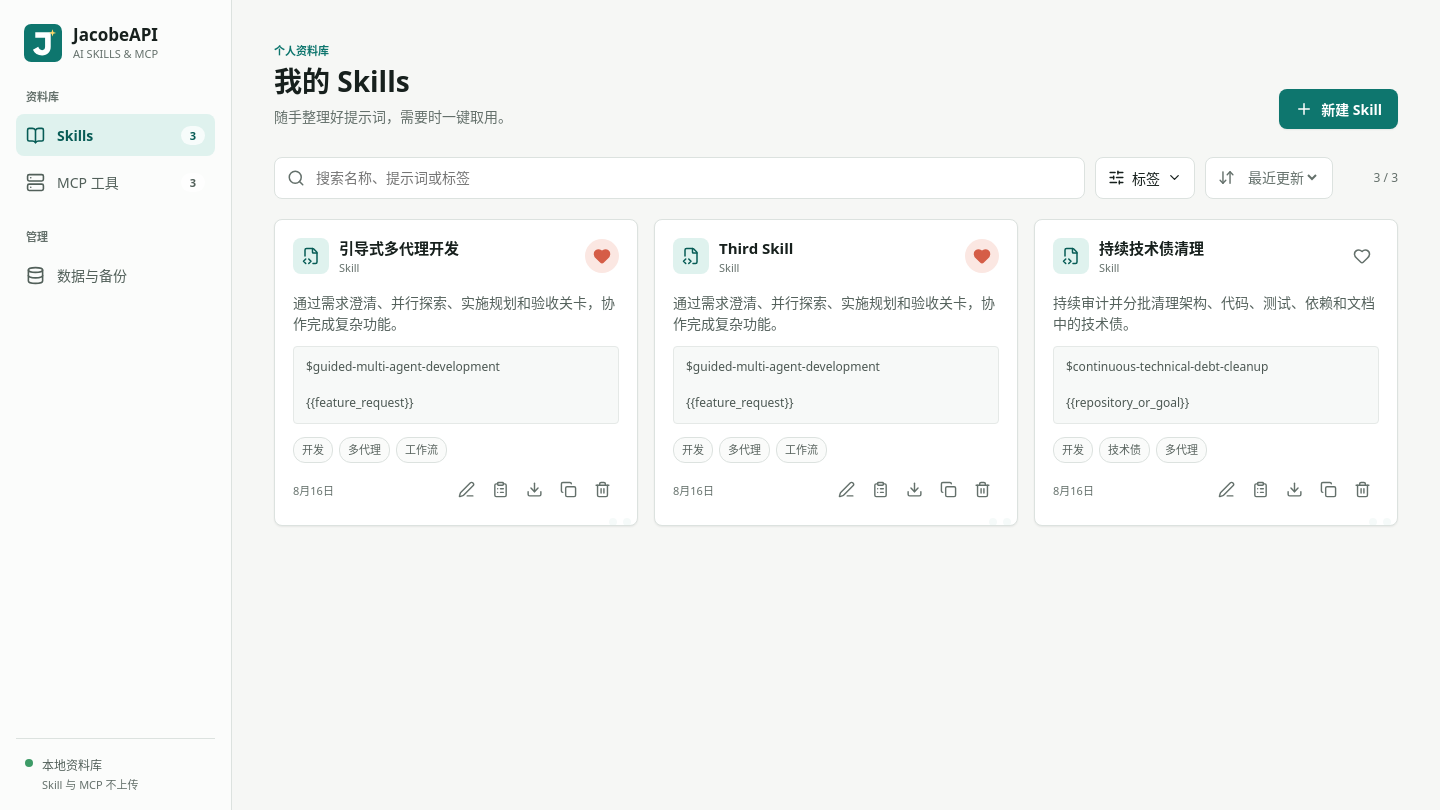
ManagerApp desktop home and guest access › leaves account-less Chrome behavior on the Skills page without guest limits
The image size is (1440, 810).
Expected: the heading "我的 Skills" is shown, [274,62,410,100]
Click the button "新建 Skill" at (1339, 108), box [1279,88,1398,128]
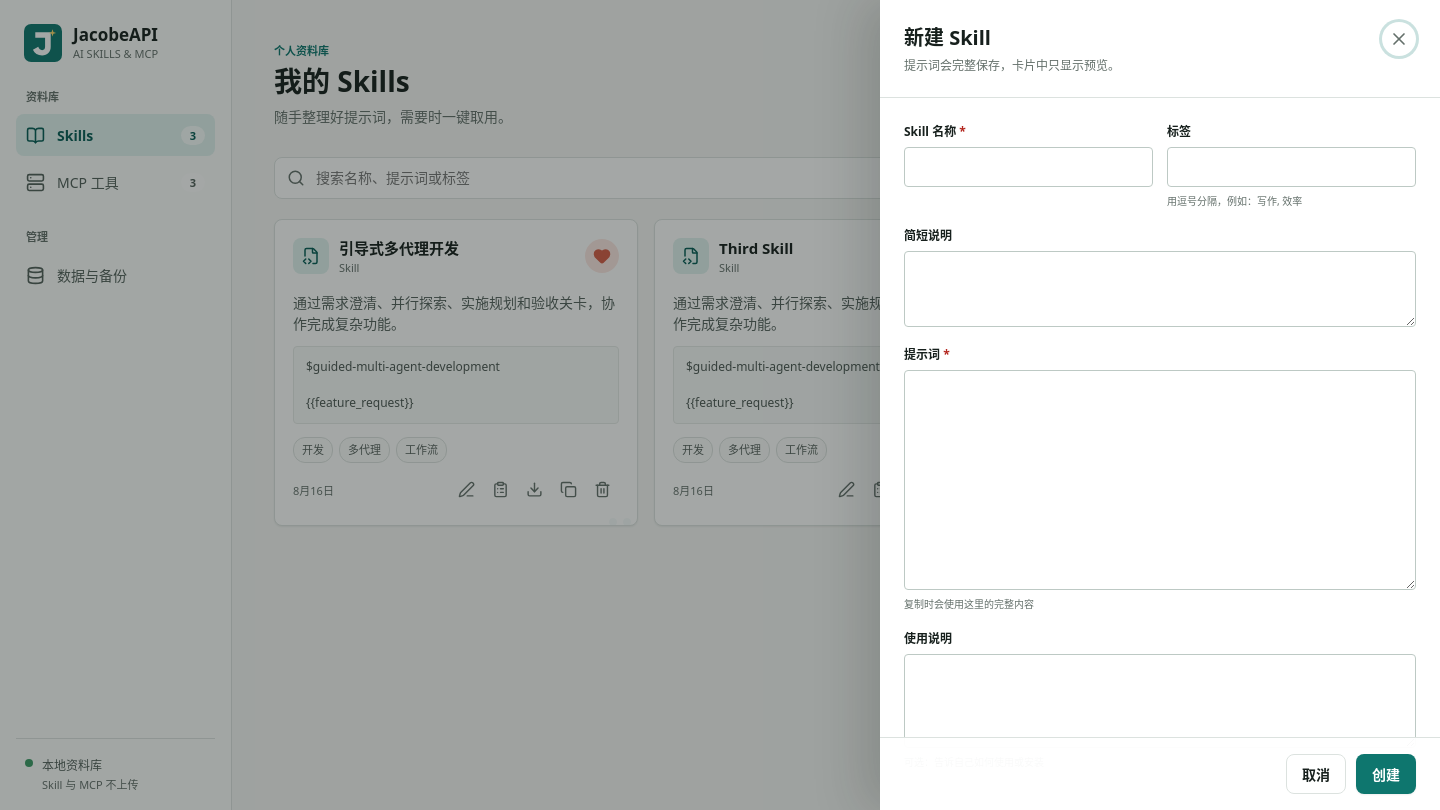
Expected: the dialog "新建 Skill" is shown, [880,0,1439,809]
